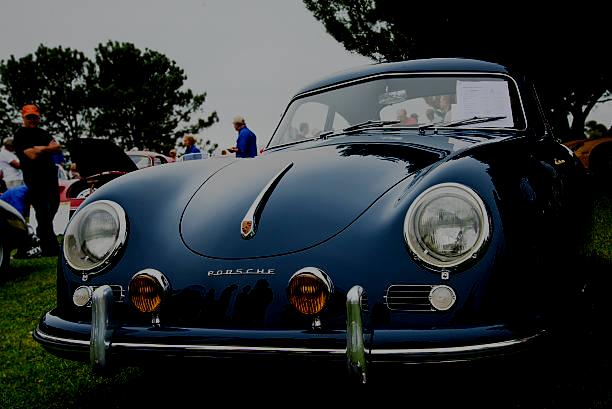porsche: (201, 264, 280, 282), (234, 217, 264, 238)
